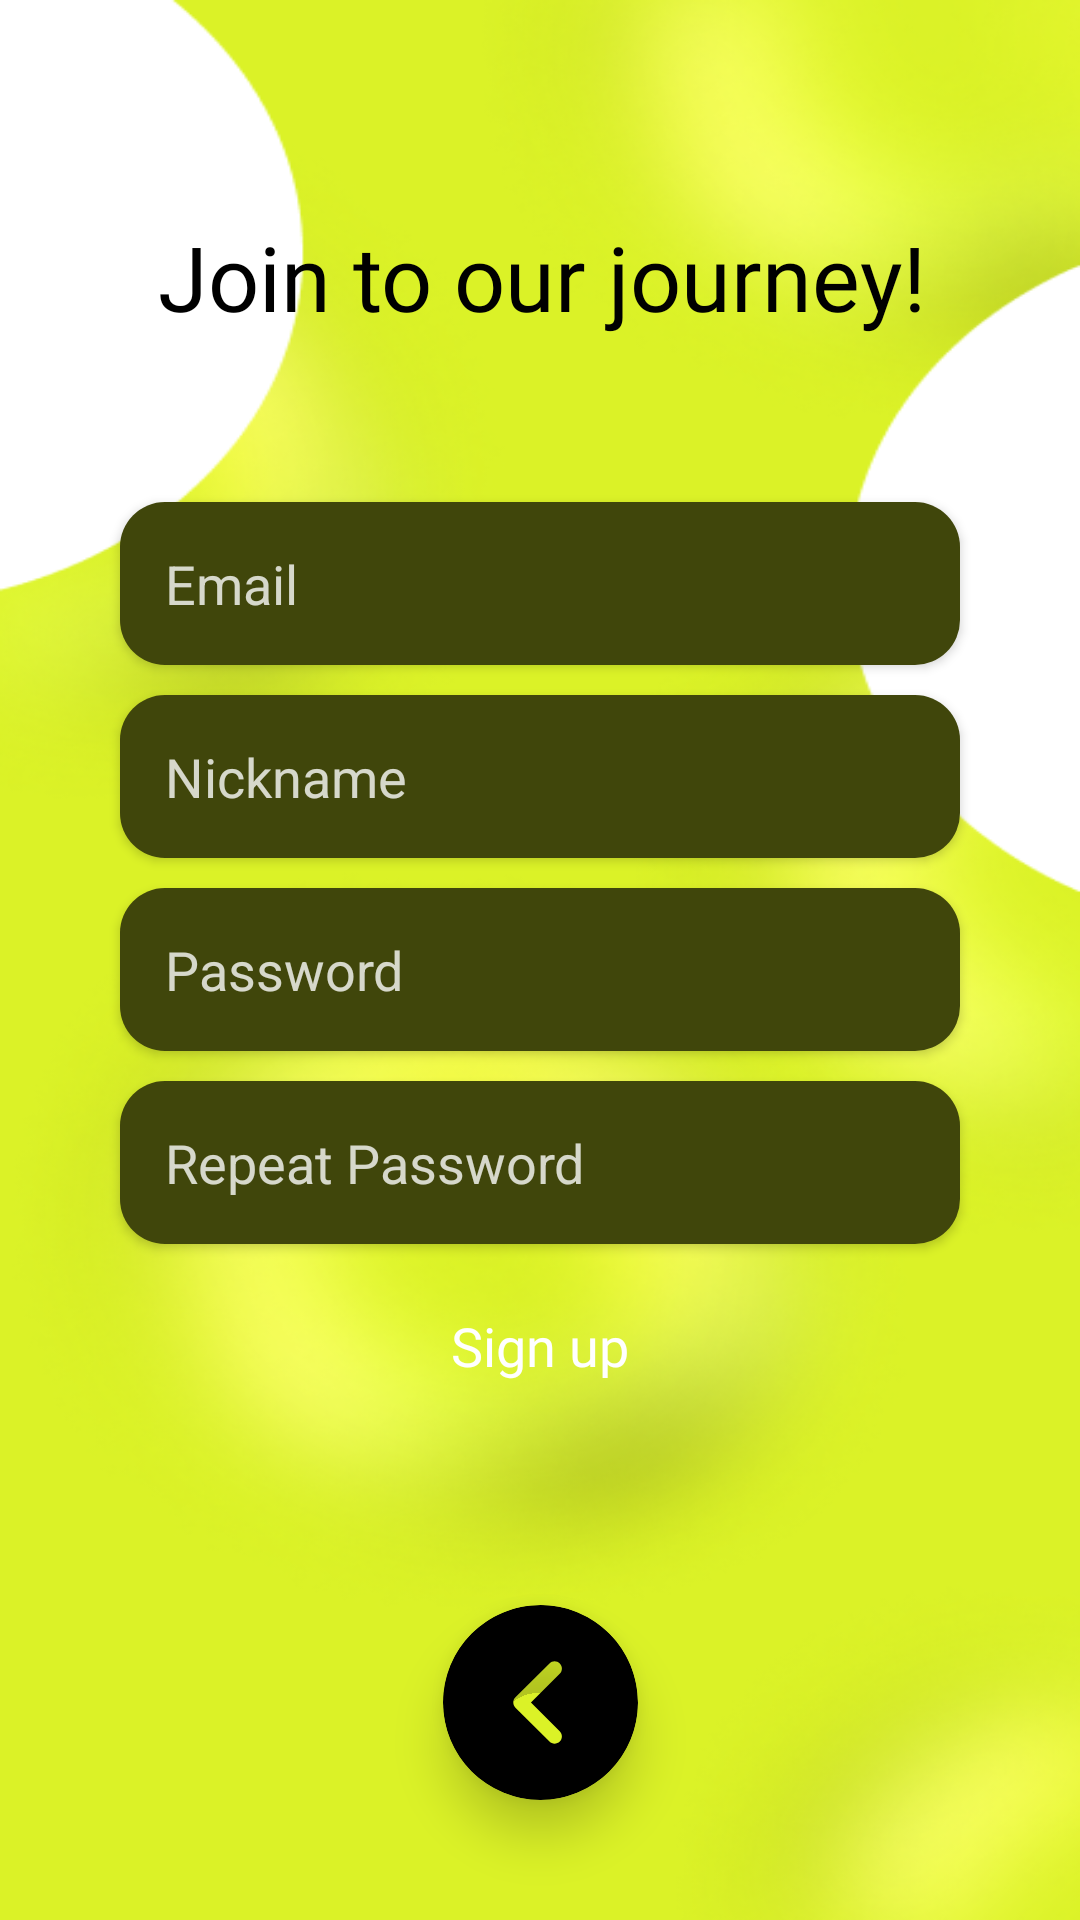

Locate icon controls on the screen. Image size 1080×1920, boxes as (x1, y1, x2, y2).
gobackblack: (443, 1605, 638, 1800)
